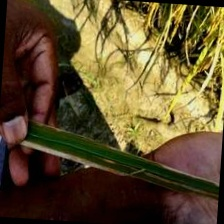Leaf_Blast: (14, 135, 146, 182)
